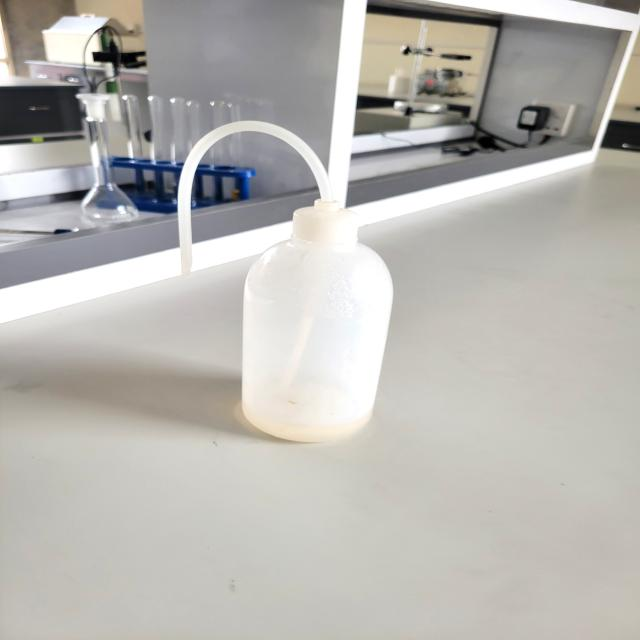Wash_Bottle: (164, 106, 419, 466)
